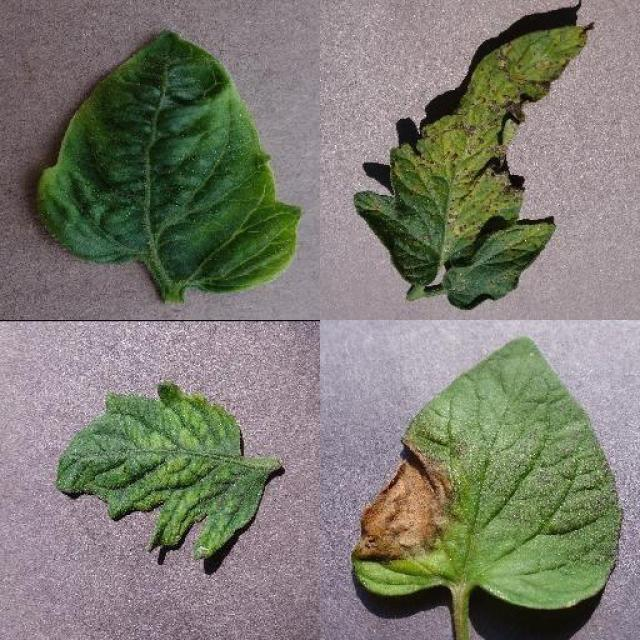Late Blight: (354, 334, 625, 611)
Septoria: (354, 21, 590, 308)
